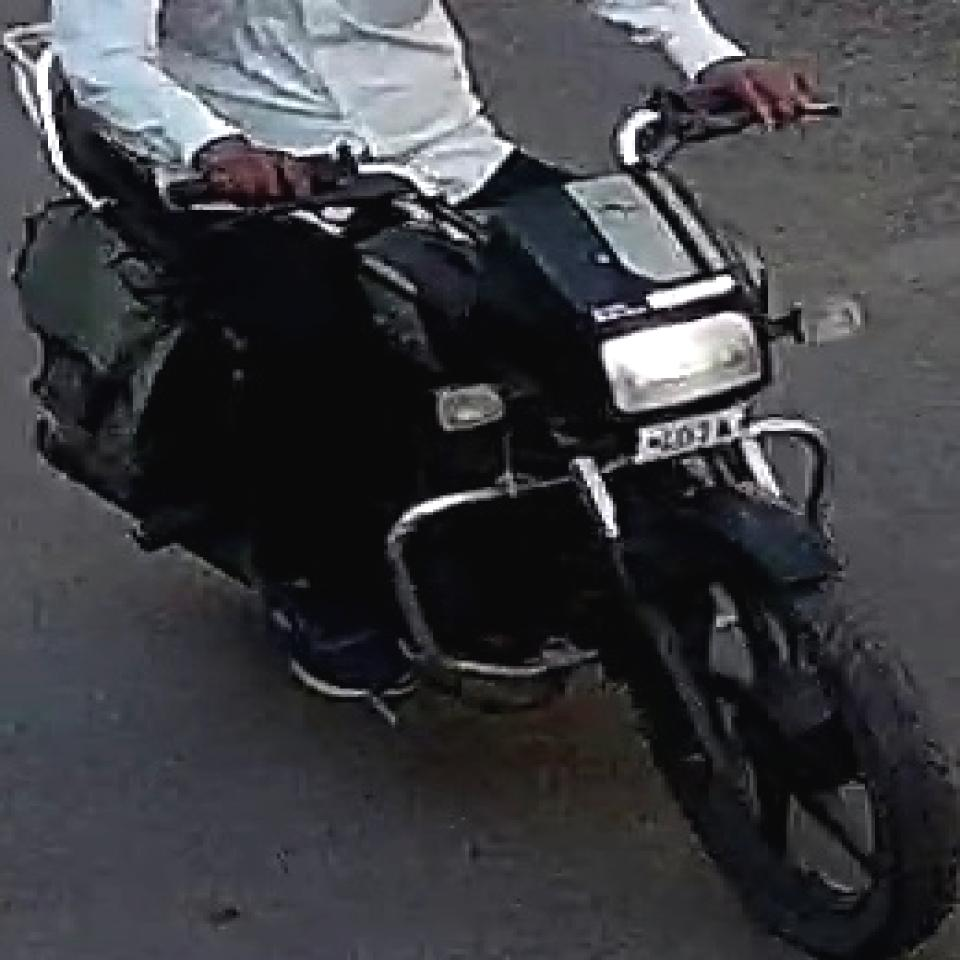head_light: (594, 309, 770, 414)
